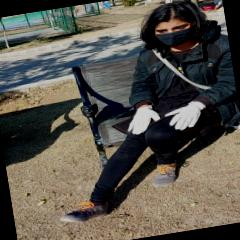gloved: (164, 100, 208, 132), (124, 104, 160, 136)
